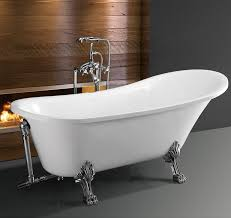bathub: (10, 66, 228, 207)
